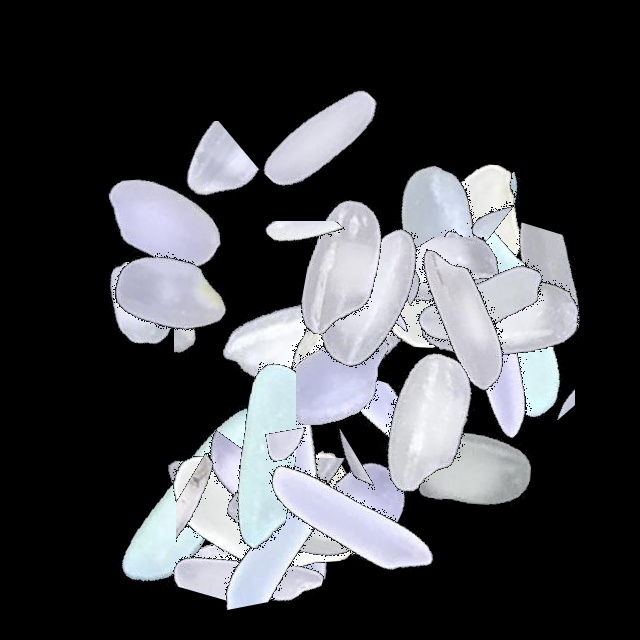Broken: (386, 114, 557, 364), (186, 390, 355, 640), (211, 416, 461, 580), (456, 187, 619, 437), (3, 262, 253, 412), (134, 456, 384, 606), (330, 237, 580, 386), (148, 325, 296, 575), (191, 458, 441, 600), (173, 390, 313, 640), (61, 121, 311, 257), (151, 390, 285, 640), (193, 365, 443, 486), (176, 390, 282, 640), (183, 424, 433, 528), (174, 201, 273, 451), (153, 427, 403, 522), (343, 132, 437, 382), (436, 45, 528, 295), (193, 221, 443, 313), (485, 258, 575, 508), (313, 220, 563, 308), (255, 503, 505, 586), (261, 343, 340, 593), (372, 172, 622, 247)
Full: (236, 209, 486, 459), (330, 129, 580, 379), (73, 374, 323, 624), (114, 364, 364, 614), (132, 381, 382, 631), (343, 171, 593, 421), (235, 390, 485, 640), (389, 199, 639, 449), (38, 100, 288, 350), (358, 208, 608, 458), (375, 192, 625, 442), (141, 390, 391, 640), (168, 221, 418, 471), (215, 209, 465, 459), (358, 178, 608, 428), (167, 390, 417, 640), (45, 172, 295, 422), (336, 340, 586, 590), (211, 254, 461, 504), (336, 195, 586, 445), (241, 171, 491, 421), (216, 142, 466, 392), (196, 11, 446, 261), (300, 293, 550, 543), (226, 390, 476, 640)
